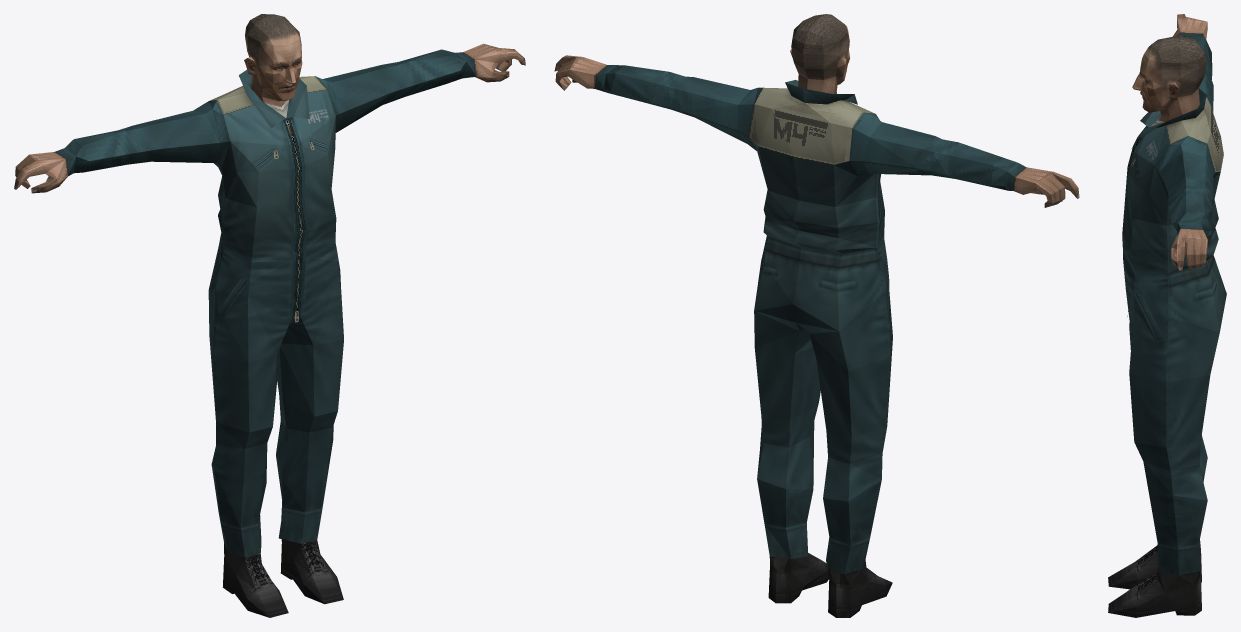
Rendered from Maintenance_C.obj.
3 views of the same model, side by side, from view 1: azimuth 30°, elevation 25°; view 2: azimuth 150°, elevation 25°; view 3: azimuth 270°, elevation 25° (orthographic). The views are drawn at different scales.
Parts seen in each view (by area): view 1: Regroup39, Regroup44, Regroup46, Regroup41, Regroup48, Regroup47, Regroup43, Regroup45, Regroup42; view 2: Regroup39, Regroup46, Regroup44, Regroup45, Regroup48, Regroup42, Regroup47, Regroup41; view 3: Regroup39, Regroup44, Regroup46, Regroup48, Regroup41, Regroup47, Regroup45, Regroup42.
Part boxes in pixels (x1=…): Regroup39: x1=208, y1=233, x2=343, y2=557; Regroup44: x1=218, y1=69, x2=336, y2=322; Regroup46: x1=55, y1=49, x2=476, y2=176; Regroup41: x1=232, y1=540, x2=343, y2=617; Regroup48: x1=244, y1=14, x2=301, y2=106; Regroup47: x1=14, y1=43, x2=525, y2=193; Regroup43: x1=281, y1=117, x2=308, y2=320; Regroup45: x1=209, y1=76, x2=326, y2=117; Regroup42: x1=222, y1=539, x2=301, y2=593; Regroup39: x1=754, y1=236, x2=892, y2=574; Regroup46: x1=594, y1=65, x2=1026, y2=190; Regroup44: x1=749, y1=80, x2=884, y2=254; Regroup45: x1=748, y1=88, x2=875, y2=164; Regroup48: x1=790, y1=14, x2=849, y2=93; Regroup42: x1=768, y1=556, x2=868, y2=617; Regroup47: x1=554, y1=55, x2=1079, y2=207; Regroup41: x1=802, y1=553, x2=892, y2=604; Regroup39: x1=1123, y1=255, x2=1226, y2=575; Regroup44: x1=1122, y1=88, x2=1220, y2=316; Regroup46: x1=1155, y1=32, x2=1214, y2=235; Regroup48: x1=1132, y1=35, x2=1206, y2=121; Regroup41: x1=1108, y1=545, x2=1174, y2=617; Regroup47: x1=1171, y1=14, x2=1207, y2=270; Regroup45: x1=1150, y1=97, x2=1223, y2=172; Regroup42: x1=1159, y1=540, x2=1201, y2=615.
Size of the model in its own units: 15.67 by 16.69 by 3.22.
11 materials, 11 textured.
